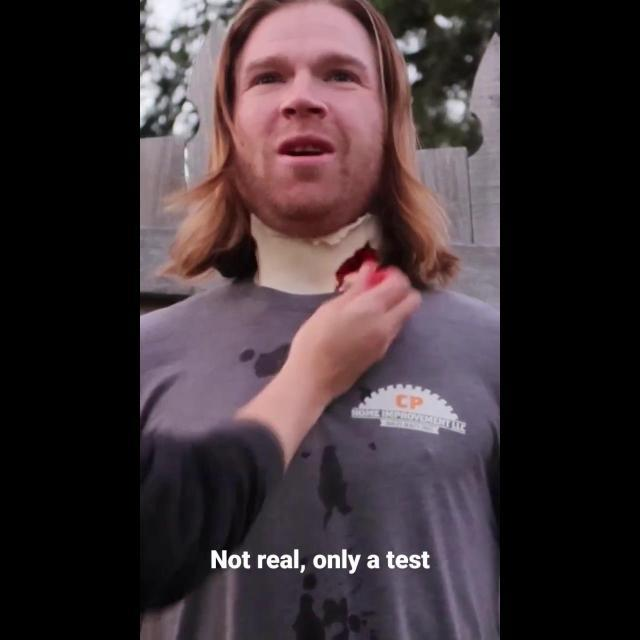blood: (336, 242, 380, 291)
